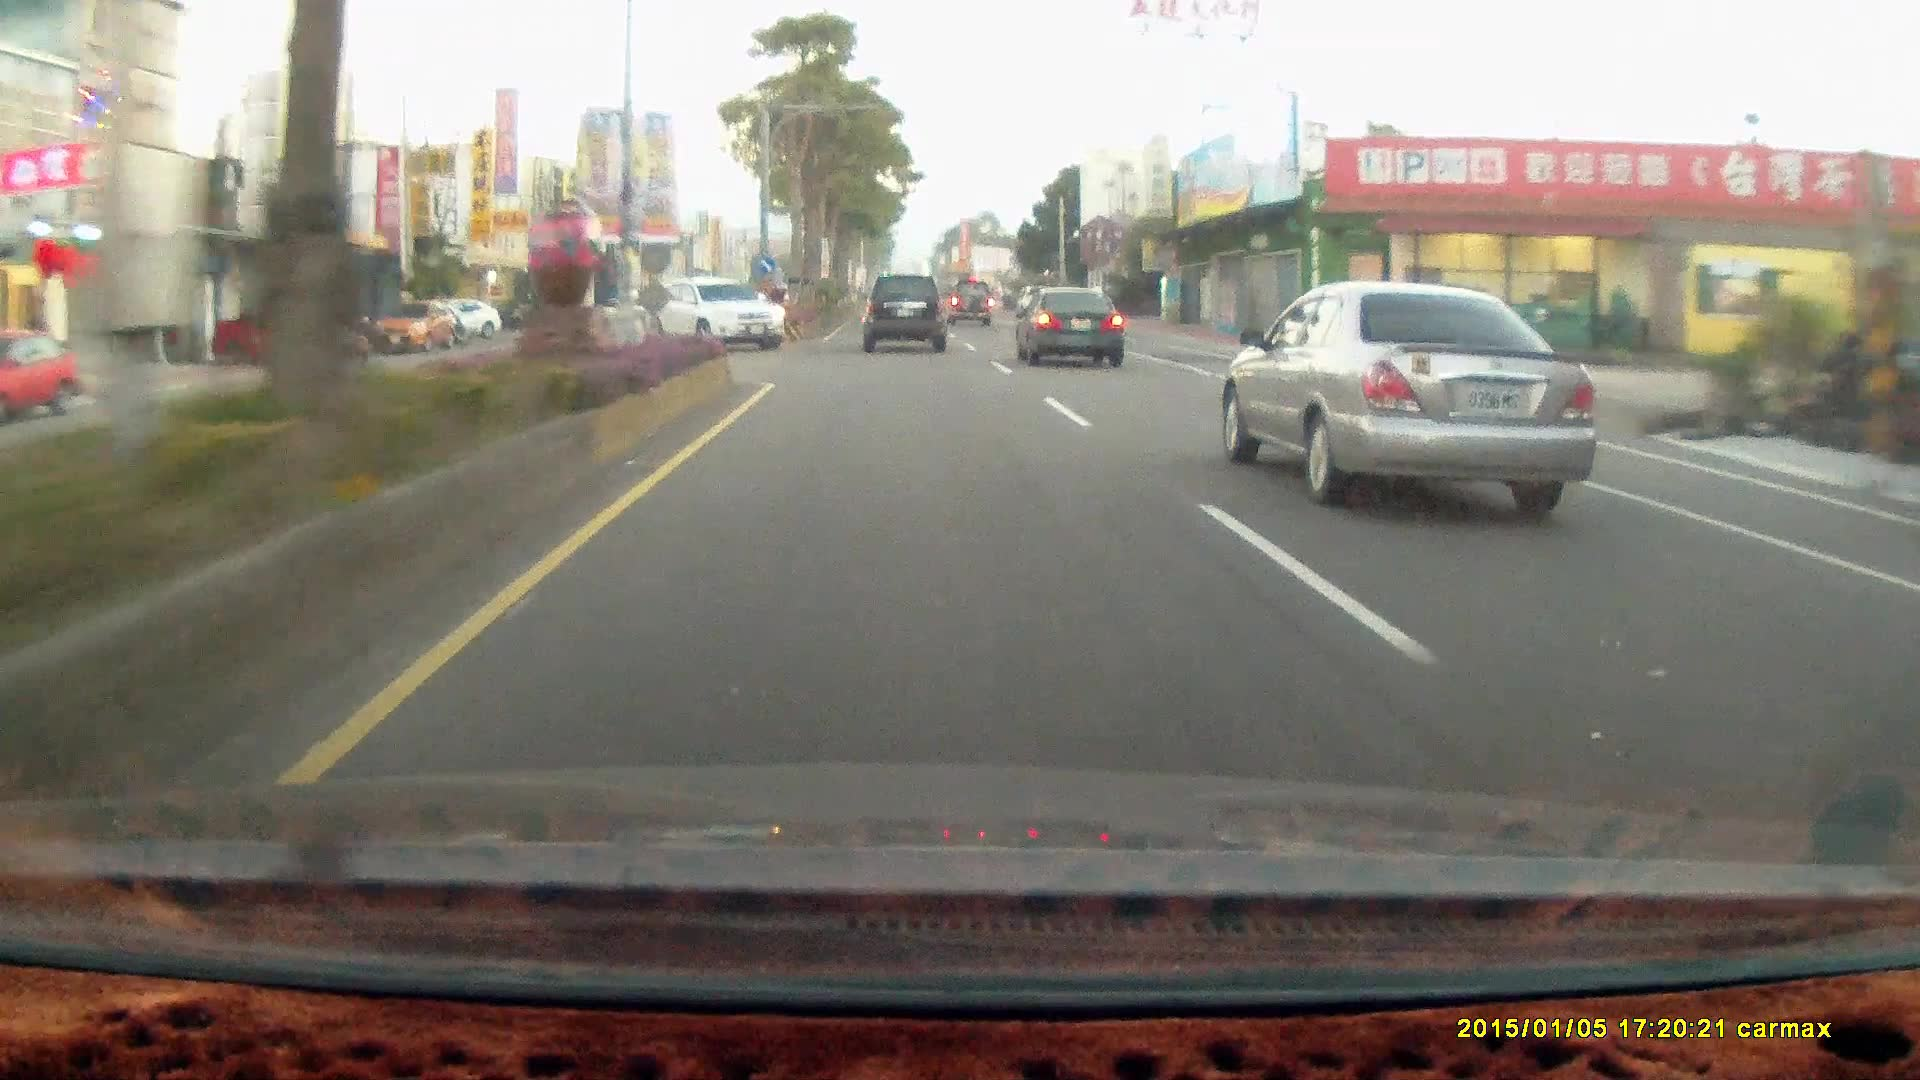vehicle: (1211, 282, 1611, 530), (642, 277, 785, 353), (1013, 286, 1129, 373), (204, 310, 375, 369), (212, 306, 371, 365), (663, 280, 790, 353), (1011, 284, 1124, 367), (1, 330, 84, 423), (862, 276, 953, 356), (861, 273, 944, 351), (363, 298, 467, 356), (369, 301, 458, 352), (421, 301, 502, 343), (944, 280, 996, 328)
